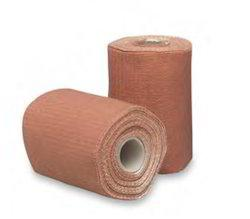bandage: (23, 87, 166, 200), (107, 35, 193, 173)
